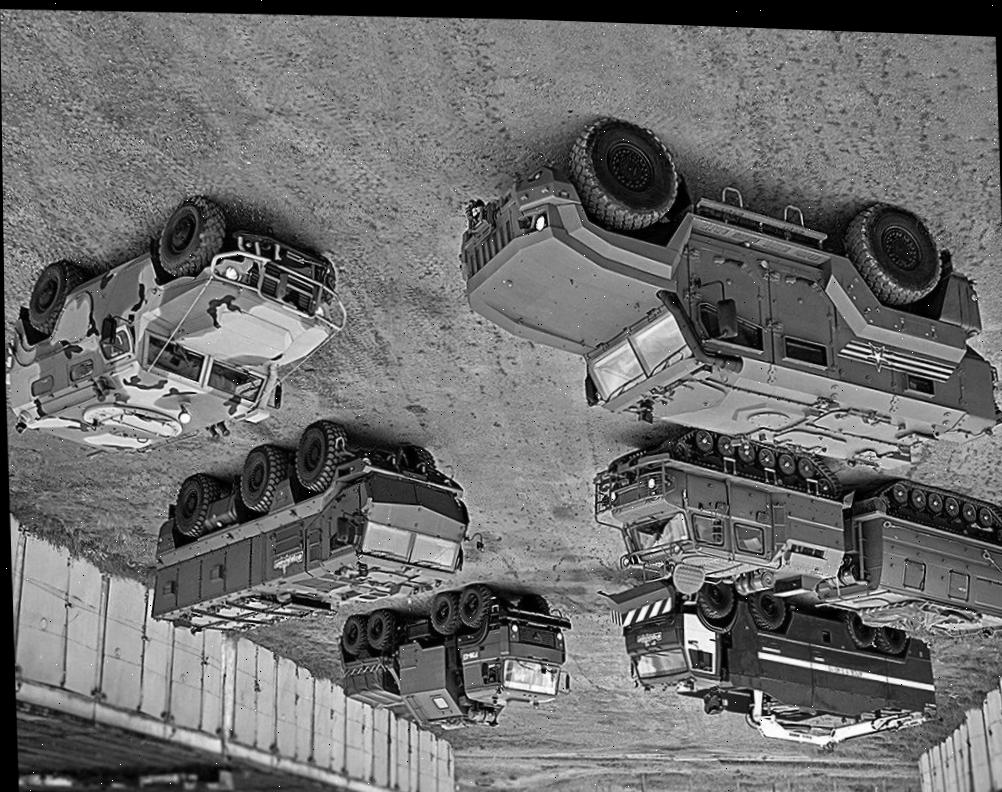armored_car: (453, 106, 1002, 482), (3, 185, 352, 469)
tank: (588, 415, 1002, 647)
truck: (145, 412, 487, 644), (336, 576, 575, 738)
